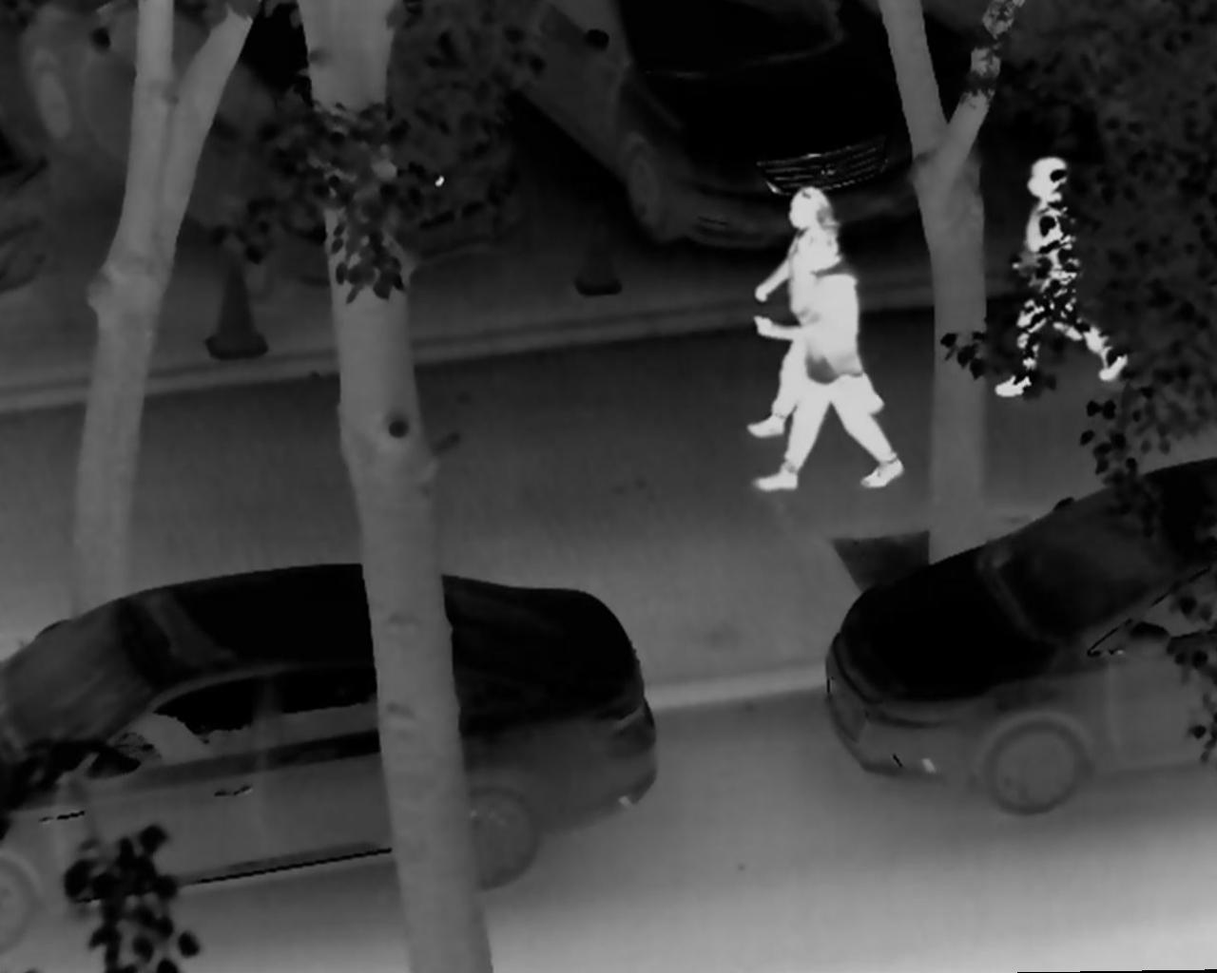person: (743, 232, 908, 500), (739, 183, 897, 440), (995, 149, 1135, 399)
